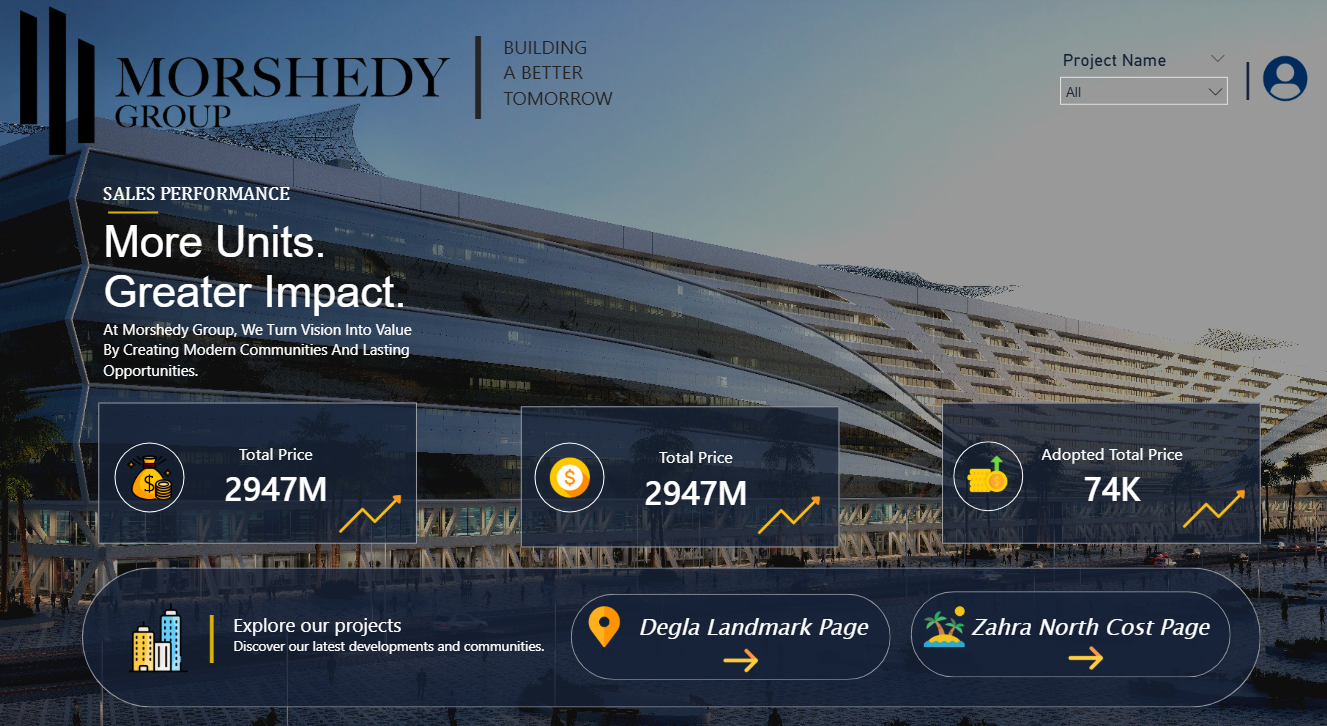

What the dashboard file says about the page in this screenshot:
{"tool":"powerbi","page":{"name":"Main_Page","canvas":[1322,720],"ordinal":0},"visuals":[{"type":"image","box":[10,0,1312,720.5],"z":0},{"type":"textbox","box":[962.4,597.9,266.6,48.9],"z":0,"group":"g5"},{"type":"textbox","box":[637.1,598,266.6,48.9],"z":0,"group":"g1"},{"type":"shape","box":[0,0,1321.9,720.2],"z":1000},{"type":"image","box":[908.6,597.9,66,40.4],"z":1000,"group":"g5"},{"type":"image","box":[576,598,66,40.4],"z":1000,"group":"g1"},{"type":"image","box":[24.5,11,446.3,145.5],"z":2000,"group":"g4"},{"type":"shape","box":[113.7,398.6,311.8,138.2],"z":2000},{"type":"image","box":[974.6,629.7,210.3,37.9],"z":2000,"group":"g5"},{"type":"image","box":[637.1,632.2,210.3,37.9],"z":2000,"group":"g1"},{"type":"textbox","box":[505.1,33,177.3,123.5],"z":3000,"group":"g4"},{"type":"image","box":[141.8,448.8,44,46.5],"z":3000},{"type":"textbox","box":[470.8,11,166.3,134.5],"z":4000,"group":"g4"},{"type":"shape","box":[526.4,402.3,311.8,138.2],"z":4000},{"type":"textbox","box":[113.7,179.8,266.6,35.5],"z":5000,"group":"g3"},{"type":"shape","box":[939.1,398.6,311.8,138.2],"z":5000},{"type":"shape","box":[123.5,198.1,48.9,29.3],"z":6000,"group":"g3"},{"type":"shape","box":[97.8,560.1,1153.1,137],"z":6000},{"type":"textbox","box":[113.7,212.8,321.6,119.8],"z":7000,"group":"g3"},{"type":"shape","box":[576,585.7,313,84.4],"z":7000},{"type":"textbox","box":[113.7,311.9,321.6,78.3],"z":8000,"group":"g3"},{"type":"shape","box":[908.6,583.3,313,84.4],"z":8000},{"type":"group","id":"g1","title":"Group 1","box":[576,598,327.7,72.1],"z":9000},{"type":"group","id":"g2","title":"Group 6","box":[129.6,414.5,1147,253.1],"z":10000},{"type":"cardVisual","fields":{"Data":["Degla Landmark.Total_Unit_Price"]},"box":[198.1,414.5,179.8,111.3],"z":10000,"group":"g8"},{"type":"group","id":"g3","title":"Group 7","box":[113.7,179.8,321.6,210.3],"z":11000},{"type":"group","id":"g4","title":"Group 8","box":[24.5,11,657.9,145.5],"z":12000},{"type":"shape","box":[129.6,437.7,68.5,68.5],"z":12000,"group":"g8"},{"type":"image","box":[1252.6,48.4,45.9,65.7],"z":13000},{"type":"image","box":[308.1,473.2,143.1,68.5],"z":13000,"group":"g8"},{"type":"slicer","fields":{"Values":["MorshedyAdvertisedUnitsTable.Project Name"]},"box":[1044.2,48.4,184.8,65.7],"z":14000},{"type":"textbox","box":[1229,39.7,23.6,78.1],"z":15000},{"type":"textbox","box":[1229,48.4,28.5,71.9],"z":16000},{"type":"shape","box":[540.5,437.7,68.5,68.5],"z":16000,"group":"g7"},{"type":"shape","box":[950.2,436.5,68.5,68.5],"z":17000,"group":"g6"},{"type":"image","box":[717.8,474.4,143.1,68.5],"z":18000,"group":"g7"},{"type":"image","box":[1133.6,468.3,143.1,68.5],"z":19000,"group":"g6"},{"type":"image","box":[551.5,452.4,47.7,39.1],"z":20000,"group":"g7"},{"type":"image","box":[960,448.7,47.7,39.1],"z":21000,"group":"g6"},{"type":"cardVisual","fields":{"Data":["Degla Landmark.Total_Unit_Price"]},"box":[609,418.2,179.8,111.3],"z":22000,"group":"g7"},{"type":"cardVisual","fields":{"Data":["Sum(MorshedyAdvertisedUnitsTable.Adopted Total Units)"]},"box":[1007.6,414.5,196.9,111.3],"z":23000,"group":"g6"},{"type":"image","box":[132,593,80.7,70.9],"z":25000,"group":"g2"},{"type":"textbox","box":[214,585.7,33,81.9],"z":26000,"group":"g2"},{"type":"textbox","box":[240.9,597.9,355.8,58.7],"z":27000,"group":"g2"},{"type":"group","id":"g5","title":"Group 2","box":[908.6,597.9,320.4,69.7],"z":30008,"group":"g6"},{"type":"group","id":"g6","title":"Group 3","box":[908.6,414.5,368.1,253.1],"z":30009,"group":"g7"},{"type":"group","id":"g7","title":"Group 4","box":[540.5,414.5,736.1,253.1],"z":30010,"group":"g8"},{"type":"group","id":"g8","title":"Group 5","box":[129.6,414.5,1147,253.1],"z":30011,"group":"g2"}]}

Visuals, with their boxes in screenshot pixels (x1, y1, x2, y2), scaled from the page's 1322x720 canvas onto the 1327x726 screenshot:
image: detection(10, 0, 1326, 725)
textbox: detection(966, 603, 1234, 652)
textbox: detection(640, 603, 907, 652)
shape: detection(0, 0, 1326, 725)
image: detection(912, 603, 978, 644)
image: detection(578, 603, 644, 644)
image: detection(25, 11, 473, 158)
shape: detection(114, 402, 427, 541)
image: detection(978, 635, 1189, 673)
image: detection(640, 637, 851, 676)
textbox: detection(507, 33, 685, 158)
image: detection(142, 453, 187, 499)
textbox: detection(473, 11, 640, 147)
shape: detection(528, 406, 841, 545)
textbox: detection(114, 181, 382, 217)
shape: detection(943, 402, 1256, 541)
shape: detection(124, 200, 173, 229)
shape: detection(98, 565, 1256, 703)
textbox: detection(114, 215, 437, 335)
shape: detection(578, 591, 892, 676)
textbox: detection(114, 314, 437, 393)
shape: detection(912, 588, 1226, 673)
"Group 1" group: detection(578, 603, 907, 676)
"Group 6" group: detection(130, 418, 1281, 673)
cardVisual - Degla Landmark.Total_Unit_Price: detection(199, 418, 379, 530)
"Group 7" group: detection(114, 181, 437, 393)
"Group 8" group: detection(25, 11, 685, 158)
shape: detection(130, 441, 199, 510)
image: detection(1257, 49, 1303, 115)
image: detection(309, 477, 453, 546)
slicer - MorshedyAdvertisedUnitsTable.Project Name: detection(1048, 49, 1234, 115)
textbox: detection(1234, 40, 1257, 119)
textbox: detection(1234, 49, 1262, 121)
shape: detection(543, 441, 611, 510)
shape: detection(954, 440, 1023, 509)
image: detection(721, 478, 864, 547)
image: detection(1138, 472, 1282, 541)
image: detection(554, 456, 601, 496)
image: detection(964, 452, 1012, 492)
cardVisual - Degla Landmark.Total_Unit_Price: detection(611, 422, 792, 534)
cardVisual - Sum(MorshedyAdvertisedUnitsTable.Adopted Total Units): detection(1011, 418, 1209, 530)
image: detection(132, 598, 214, 669)
textbox: detection(215, 591, 248, 673)
textbox: detection(242, 603, 599, 662)
"Group 2" group: detection(912, 603, 1234, 673)
"Group 3" group: detection(912, 418, 1282, 673)
"Group 4" group: detection(543, 418, 1281, 673)
"Group 5" group: detection(130, 418, 1281, 673)
